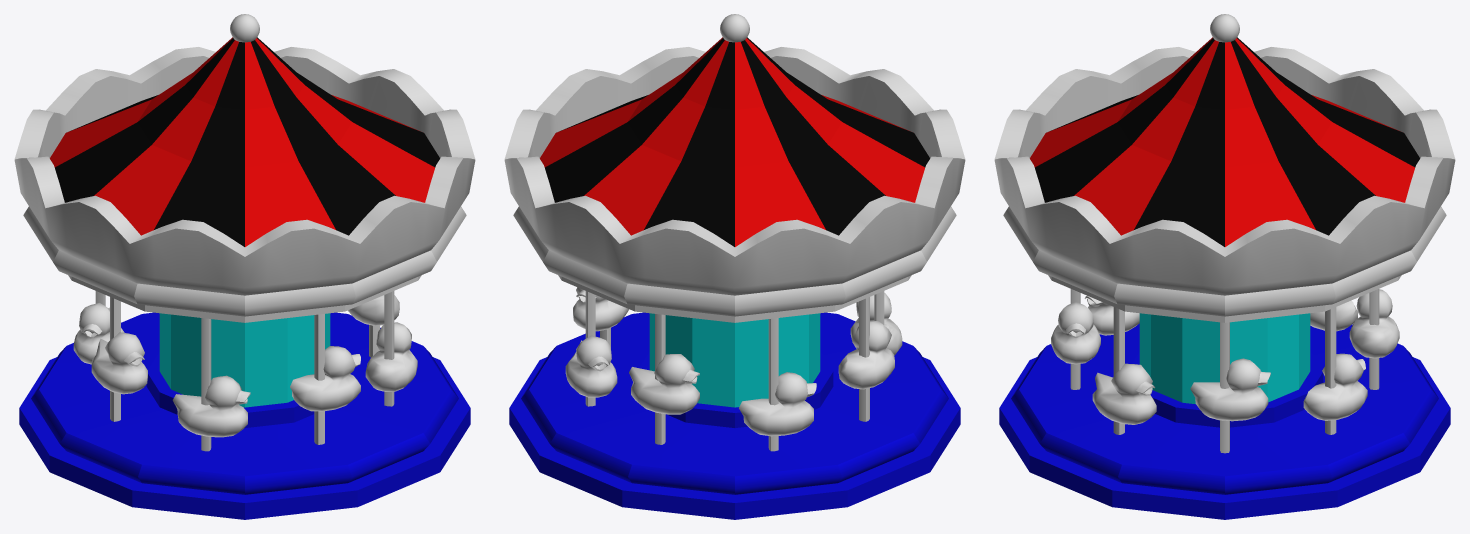
File: carosaoul.fbx
3 views of the same model, side by side, from view 1: azimuth 30°, elevation 25°; view 2: azimuth 150°, elevation 25°; view 3: azimuth 270°, elevation 25° (orthographic).
Visible parts, largest first — view 1: pCylinder46, pCylinder44, pCylinder45, pCube630, duck_3d:pCube1, pCube293, pCube633, pCube632, pCube288, pCube283, pCube284, pCube296 (+2 smaller); view 2: pCylinder46, pCylinder44, pCylinder45, pCube632, pCube299, pCube293, pCube290, pCube296, pCube285, pCube287, pCube289, pCube630 (+2 smaller); view 3: pCylinder46, pCylinder44, pCylinder45, pCube296, pCube633, pCube290, pCube299, duck_3d:pCube1, pCube282, pCube286, pCube284, pCube630 (+3 smaller).
Boxes of the visible parts, x1,y1,x2,y2 form: pCylinder46: (19, 312, 470, 519); pCylinder44: (14, 47, 475, 322); pCylinder45: (50, 37, 439, 246); pCube630: (172, 375, 247, 437); duck_3d:pCube1: (290, 346, 360, 411); pCube293: (91, 332, 147, 394); pCube633: (365, 322, 417, 391); pCube632: (73, 303, 124, 364); pCube288: (314, 314, 324, 444); pCube283: (201, 318, 211, 451); pCube284: (384, 291, 394, 406); pCube296: (347, 295, 399, 325); pCylinder46: (509, 312, 960, 519); pCylinder44: (504, 47, 965, 322); pCylinder45: (540, 37, 929, 246); pCube632: (739, 372, 813, 436); pCube299: (629, 354, 699, 414); pCube293: (838, 320, 894, 389); pCube290: (565, 335, 617, 397); pCube296: (573, 287, 629, 331); pCube285: (768, 318, 778, 451); pCube287: (859, 297, 869, 421); pCube289: (655, 314, 665, 444); pCube630: (850, 293, 902, 355); pCylinder46: (999, 313, 1450, 519); pCylinder44: (994, 47, 1455, 322); pCylinder45: (1030, 37, 1419, 246); pCube296: (1190, 358, 1268, 421); pCube633: (1092, 363, 1156, 424); pCube290: (1303, 353, 1367, 420); pCube299: (1349, 289, 1399, 358); duck_3d:pCube1: (1051, 302, 1100, 364); pCube282: (1325, 307, 1336, 434); pCube286: (1220, 322, 1229, 453); pCube284: (1113, 307, 1124, 434); pCube630: (1088, 302, 1139, 335).
Bounding box in the file's own units: 20.56 × 20.14 × 20.56.
